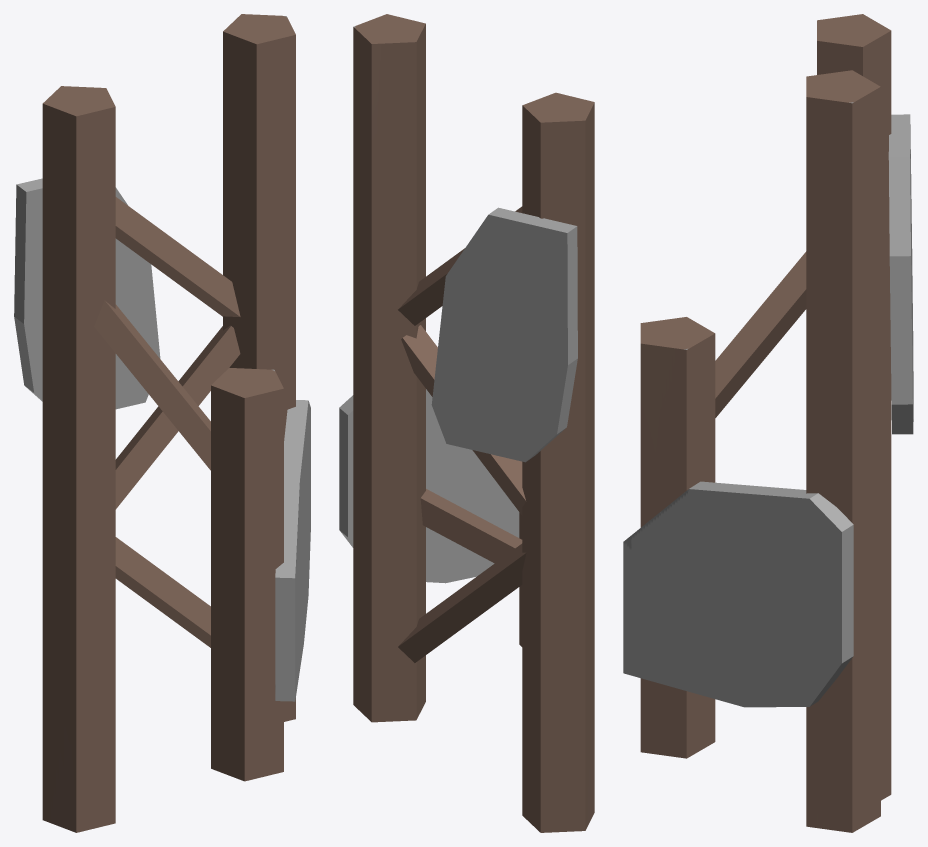
File: debris2.fbx
3 views of the same model, side by side, from view 1: azimuth 30°, elevation 25°; view 2: azimuth 150°, elevation 25°; view 3: azimuth 270°, elevation 25° (orthographic). The views are drawn at different scales.
Parts seen in each view (by area): view 1: Cube.002; view 2: Cube.002; view 3: Cube.002.
Part boxes in pixels (left/top/right/bottom): Cube.002: left=14, top=14, right=310, bottom=832; Cube.002: left=339, top=14, right=594, bottom=832; Cube.002: left=623, top=14, right=913, bottom=832.
Bounding box in the file's own units: 381 × 1033 × 340.
1 material, 1 textured.
